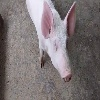heo: (38, 1, 77, 82)
